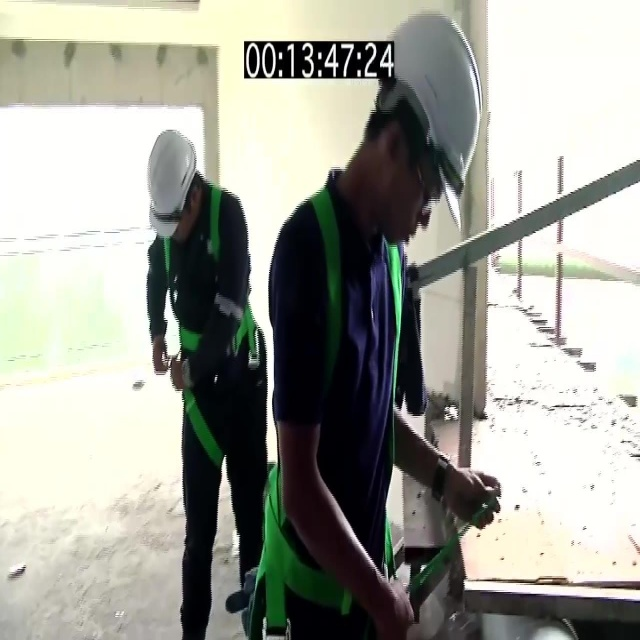Arnes_seguridad: (266, 185, 408, 636), (164, 185, 251, 469)
